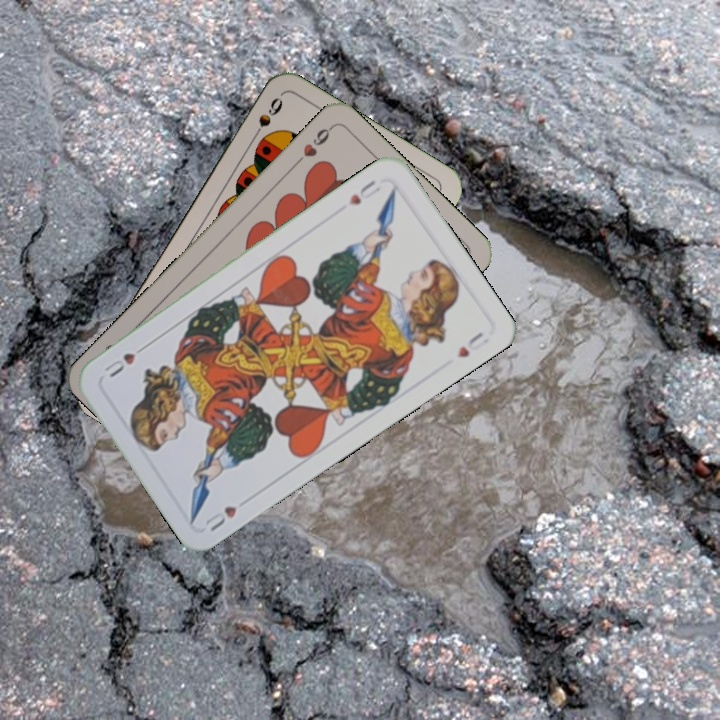H9: (290, 122, 336, 169)
HU: (201, 501, 239, 535), (344, 175, 383, 208)
S9: (246, 93, 286, 145)
